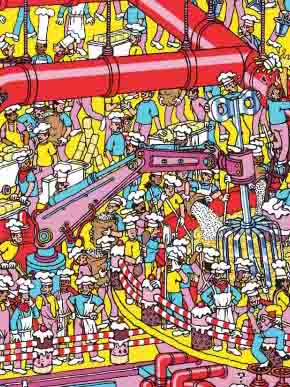waldo: (122, 114, 135, 133)
